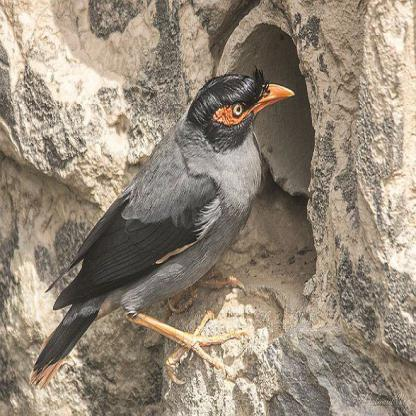Burung: (28, 73, 294, 392)
